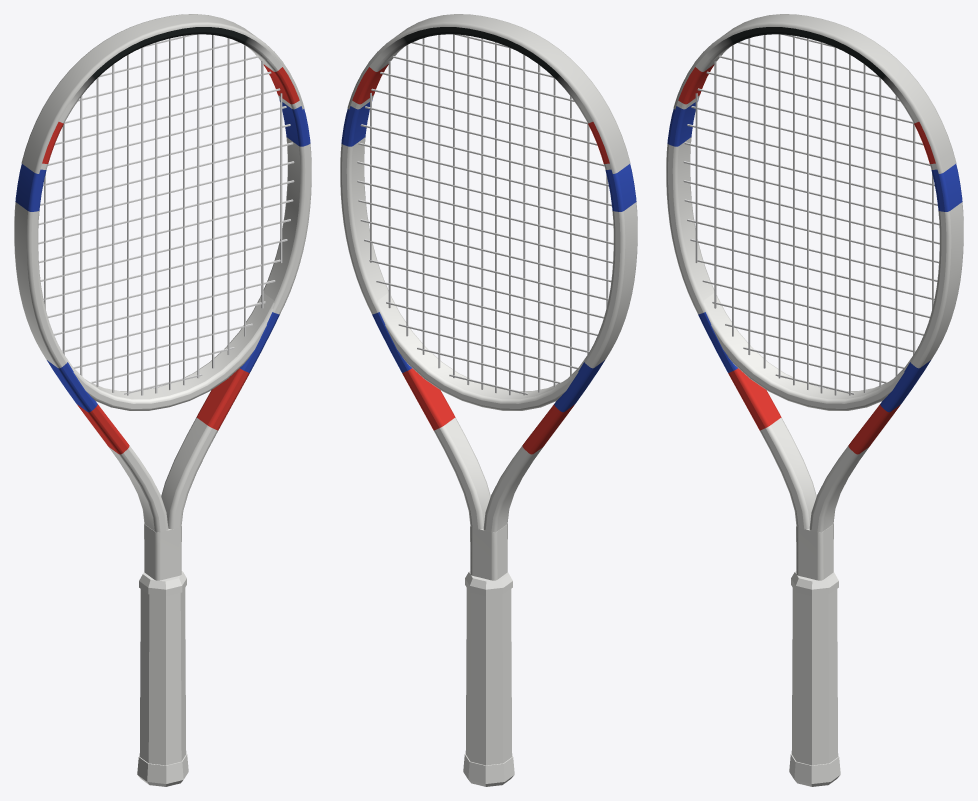
Rendered from tecnifibre-tfight-team-2025.glb.
3 renders of one model, left to right at view 1: azimuth 30°, elevation 25°; view 2: azimuth 150°, elevation 25°; view 3: azimuth 330°, elevation 25°, orthographic.
Parts seen in each view (by area): view 1: frame, strings_mains, strings_crosses, grip, bumper, butt_cap, collar; view 2: frame, strings_mains, strings_crosses, grip, bumper, butt_cap, collar; view 3: frame, strings_mains, strings_crosses, grip, bumper, butt_cap, collar.
Part boxes in pixels (box(x1,y1,x2,y2)): frame: box(14, 27, 311, 580); strings_mains: box(44, 34, 282, 395); strings_crosses: box(38, 34, 294, 394); grip: box(139, 588, 186, 765); bumper: box(21, 14, 304, 173); butt_cap: box(137, 754, 188, 786); collar: box(139, 571, 186, 596); frame: box(340, 27, 637, 580); strings_mains: box(370, 34, 608, 395); strings_crosses: box(357, 34, 613, 394); grip: box(465, 588, 512, 765); bumper: box(347, 14, 630, 173); butt_cap: box(463, 754, 514, 786); collar: box(465, 571, 512, 596); frame: box(666, 27, 963, 580); strings_mains: box(695, 34, 933, 395); strings_crosses: box(683, 34, 939, 394); grip: box(791, 588, 838, 765); bumper: box(673, 14, 956, 173); butt_cap: box(789, 754, 840, 786); collar: box(791, 571, 838, 596).
Bounding box in the file's own units: 0.2711 × 0.6861 × 0.0396.
